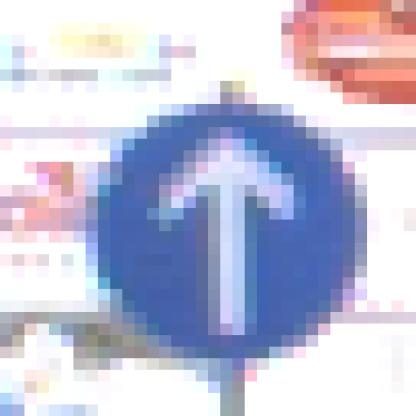AheadOnly: (62, 70, 344, 348)
